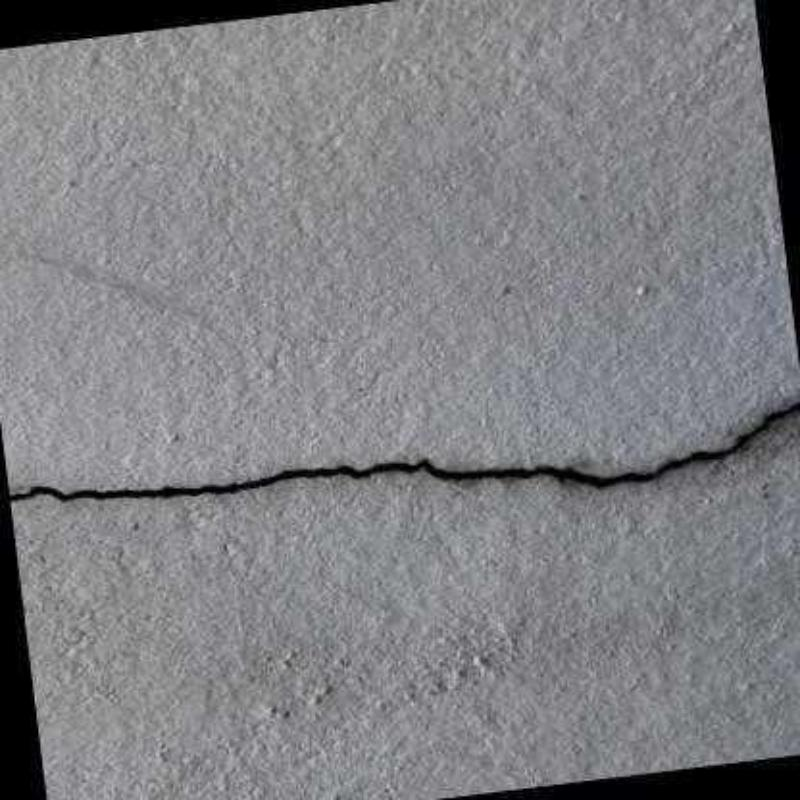pothole: (9, 403, 798, 503)
